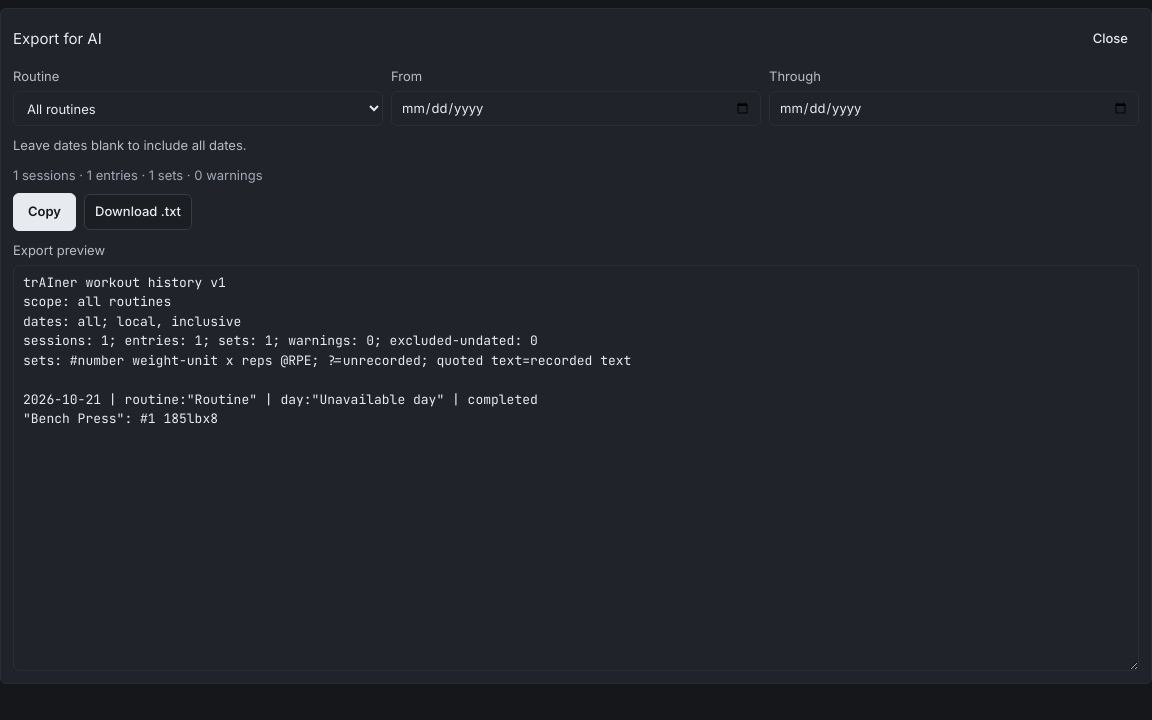
HistoryExportPanel › revokes the object URL when initiating the download throws
The width and height of the screenshot is (1152, 720).
Step 1. Click the button "Download .txt" → (138, 212), box [84, 194, 192, 230]
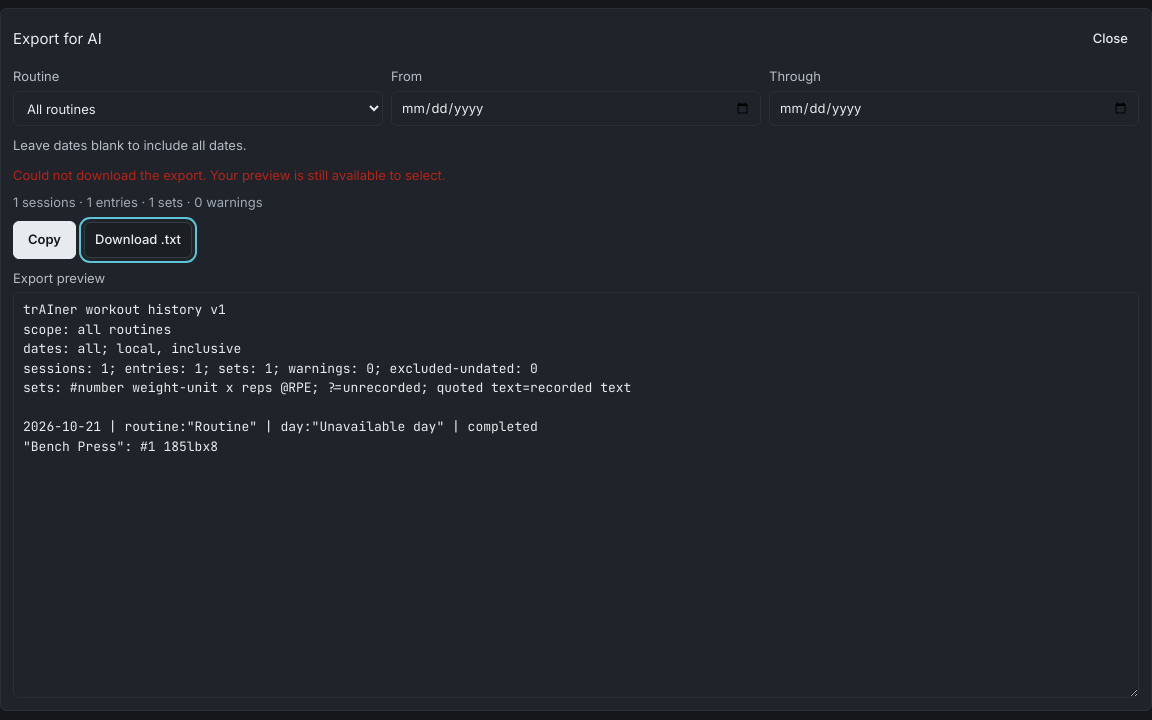
Result: the message shows "Could not download" at [13, 166, 446, 182]
